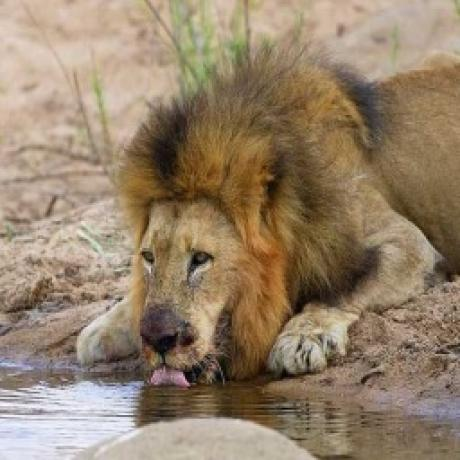Lion: (81, 41, 460, 384)
